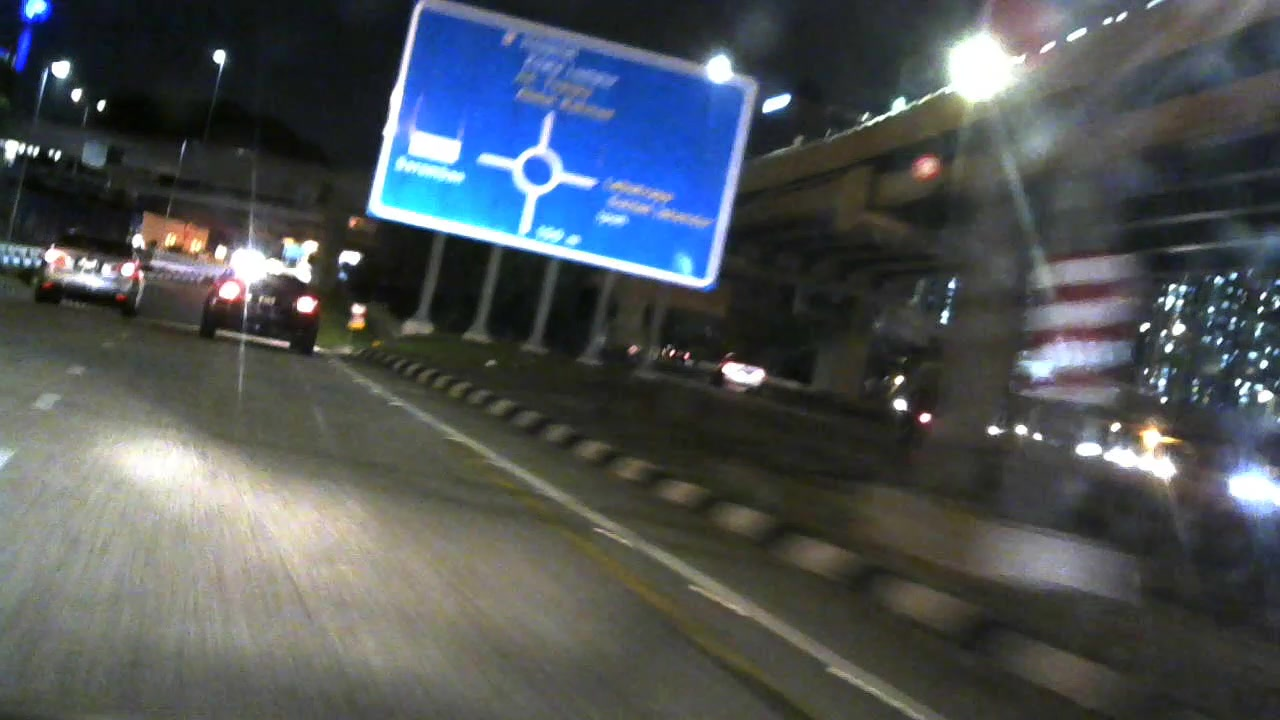Car: (193, 255, 331, 345), (34, 230, 148, 319)
